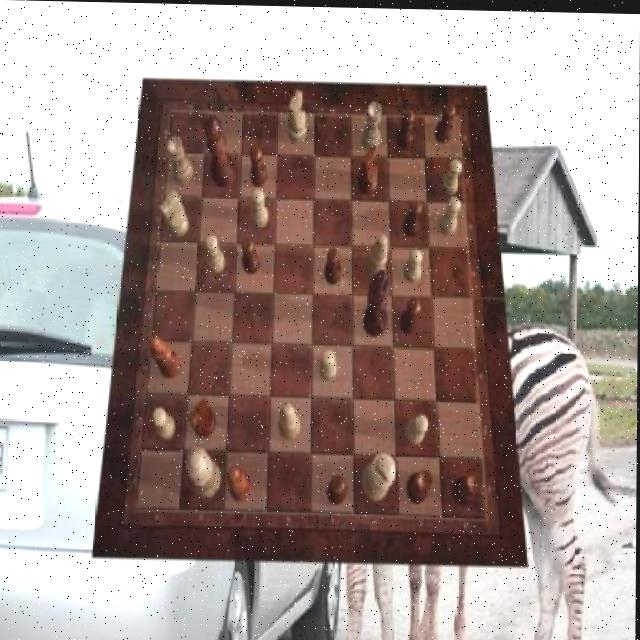bishop: (149, 335, 181, 378), (226, 466, 251, 502)
black-bishop: (364, 268, 391, 336)
black-king: (187, 397, 214, 438), (357, 143, 378, 195)
black-knight: (435, 102, 455, 142), (402, 198, 422, 236), (400, 297, 421, 333), (397, 107, 415, 147), (324, 246, 342, 284), (249, 148, 267, 186), (242, 237, 260, 274), (326, 473, 346, 505)
black-pawn: (201, 113, 235, 187)
black-queen: (453, 470, 484, 505), (406, 467, 433, 504)
black-rook: (364, 233, 388, 282), (278, 402, 301, 440)
white-bishop: (360, 451, 396, 500)
white-king: (160, 189, 190, 235), (287, 88, 307, 142)
white-knight: (439, 195, 460, 234), (204, 234, 225, 272), (441, 157, 462, 195), (151, 407, 175, 440), (404, 412, 429, 443), (250, 188, 268, 226), (404, 246, 423, 281), (319, 347, 338, 378)
white-pawn: (186, 445, 222, 498)
white-queen: (167, 135, 195, 183), (361, 100, 381, 150)
